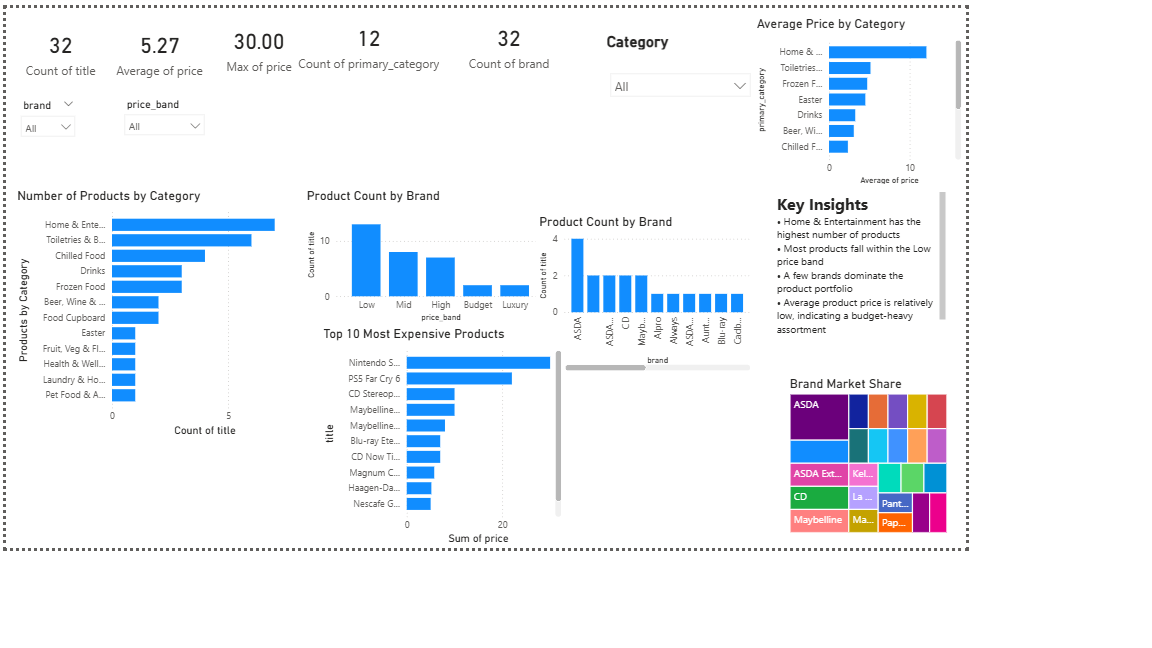

What the dashboard file says about the page in this screenshot:
{"tool":"powerbi","page":{"name":"Supermarket Category & Brand Insights Dashboard","canvas":[1280,720],"ordinal":0},"visuals":[{"type":"card","fields":{"Values":["CountNonNull(asda_clean_data.title)"]},"box":[9.4,0,125.1,115.7],"z":0},{"type":"card","fields":{"Values":["Avg(asda_clean_data.price)"]},"box":[134.5,0,140.8,115.7],"z":1000},{"type":"card","fields":{"Values":["Max(asda_clean_data.price)"]},"box":[275.3,7.8,122,89.2],"z":2000},{"type":"card","fields":{"Values":["Count(asda_clean_data.primary_category)"]},"box":[383.2,0,198.6,97],"z":3000},{"type":"card","fields":{"Values":["CountNonNull(asda_clean_data.brand)"]},"box":[581.9,0,176.7,97],"z":4000},{"type":"clusteredBarChart","title":"Number of Products by Category","fields":{"Category":["asda_clean_data.primary_category"],"Y":["CountNonNull(asda_clean_data.title)"]},"box":[9.4,239.3,387.9,334.7],"z":5000},{"type":"clusteredBarChart","title":"Average Price by Category","fields":{"Category":["asda_clean_data.primary_category"],"Y":["Avg(asda_clean_data.price)"]},"box":[997,9.7,282.4,229.8],"z":6000},{"type":"columnChart","title":"Product Count by Brand","fields":{"Category":["asda_clean_data.price_band"],"Y":["CountNonNull(asda_clean_data.title)"]},"box":[395.3,239.5,327.1,183],"z":7000},{"type":"columnChart","title":"Product Count by Brand","fields":{"Category":["asda_clean_data.brand"],"Y":["CountNonNull(asda_clean_data.title)"]},"box":[705.4,273.7,290.9,214.3],"z":8000},{"type":"textbox","box":[1022.3,239.5,235.6,206.4],"z":10000},{"type":"slicer","title":"Category","fields":{"Values":["asda_clean_data.primary_category"]},"box":[796.4,31.2,206.4,114.9],"z":11000},{"type":"slicer","fields":{"Values":["asda_clean_data.brand"]},"box":[9.4,115.7,92.3,59.4],"z":12000},{"type":"slicer","fields":{"Values":["asda_clean_data.price_band"]},"box":[148.6,114.2,126.7,64.1],"z":13000},{"type":"clusteredBarChart","title":"Top 10 Most Expensive Products","fields":{"Category":["asda_clean_data.title"],"Y":["Sum(asda_clean_data.price)"]},"box":[418.7,424.5,327.1,296],"z":14000},{"type":"treemap","title":"Brand Market Share","fields":{"Group":["asda_clean_data.brand"],"Values":["CountNonNull(asda_clean_data.title)"]},"box":[1039,489,219,214],"z":14001}]}

Visuals, with their boxes in screenshot pixels (x1, y1, x2, y2), scaled from the page's 1280x720 canvas onto the 1152x648 screenshot:
card - CountNonNull(asda_clean_data.title): {"left": 8, "top": 0, "right": 121, "bottom": 104}
card - Avg(asda_clean_data.price): {"left": 121, "top": 0, "right": 248, "bottom": 104}
card - Max(asda_clean_data.price): {"left": 248, "top": 7, "right": 358, "bottom": 87}
card - Count(asda_clean_data.primary_category): {"left": 345, "top": 0, "right": 524, "bottom": 87}
card - CountNonNull(asda_clean_data.brand): {"left": 524, "top": 0, "right": 683, "bottom": 87}
"Number of Products by Category" clusteredBarChart: {"left": 8, "top": 215, "right": 358, "bottom": 517}
"Average Price by Category" clusteredBarChart: {"left": 897, "top": 9, "right": 1151, "bottom": 216}
"Product Count by Brand" columnChart: {"left": 356, "top": 216, "right": 650, "bottom": 380}
"Product Count by Brand" columnChart: {"left": 635, "top": 246, "right": 897, "bottom": 439}
textbox: {"left": 920, "top": 216, "right": 1132, "bottom": 401}
"Category" slicer: {"left": 717, "top": 28, "right": 903, "bottom": 131}
slicer - asda_clean_data.brand: {"left": 8, "top": 104, "right": 92, "bottom": 158}
slicer - asda_clean_data.price_band: {"left": 134, "top": 103, "right": 248, "bottom": 160}
"Top 10 Most Expensive Products" clusteredBarChart: {"left": 377, "top": 382, "right": 671, "bottom": 647}
"Brand Market Share" treemap: {"left": 935, "top": 440, "right": 1132, "bottom": 633}
